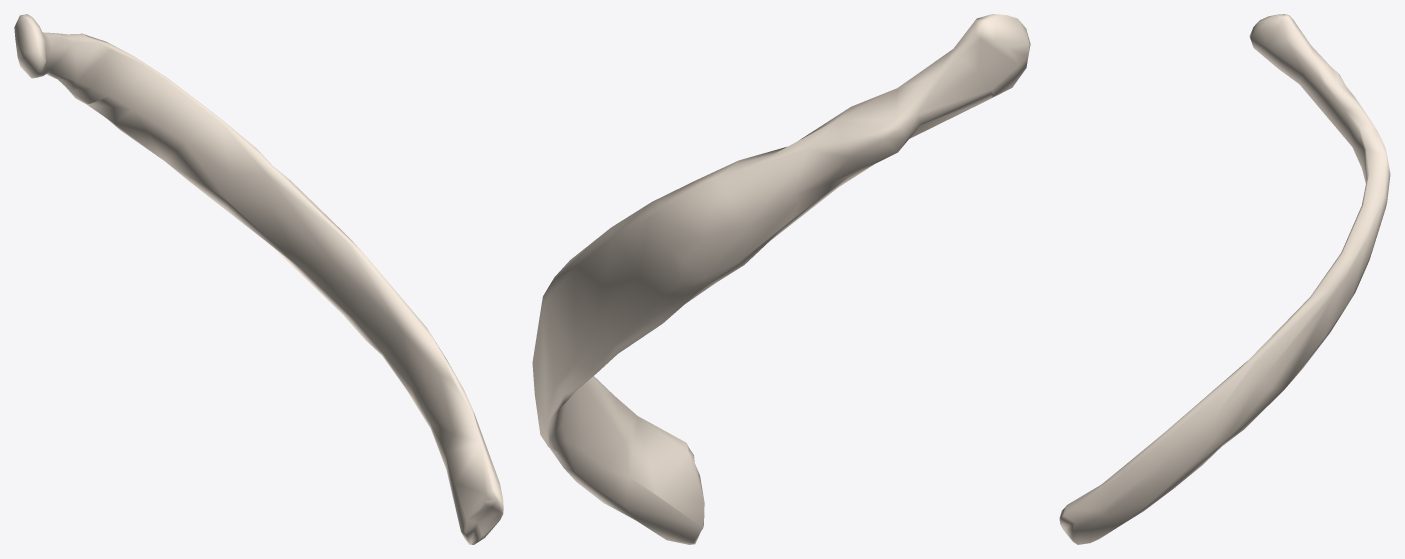
Rendered from left_rib_10.glb.
The picture shows the model from 3 angles, left to right: view 1: azimuth 30°, elevation 25°; view 2: azimuth 150°, elevation 25°; view 3: azimuth 270°, elevation 25°; orthographic projection. The views are drawn at different scales.
Parts seen in each view (by area): view 1: Rib (10th).r; view 2: Rib (10th).r; view 3: Rib (10th).r.
Boxes of the visible parts, box(x1,y1,x2,y2) form: Rib (10th).r: box(14, 14, 503, 544); Rib (10th).r: box(532, 14, 1030, 544); Rib (10th).r: box(1059, 14, 1390, 544).
Bounding box in the file's own units: 0.0859 × 0.1151 × 0.0849.
